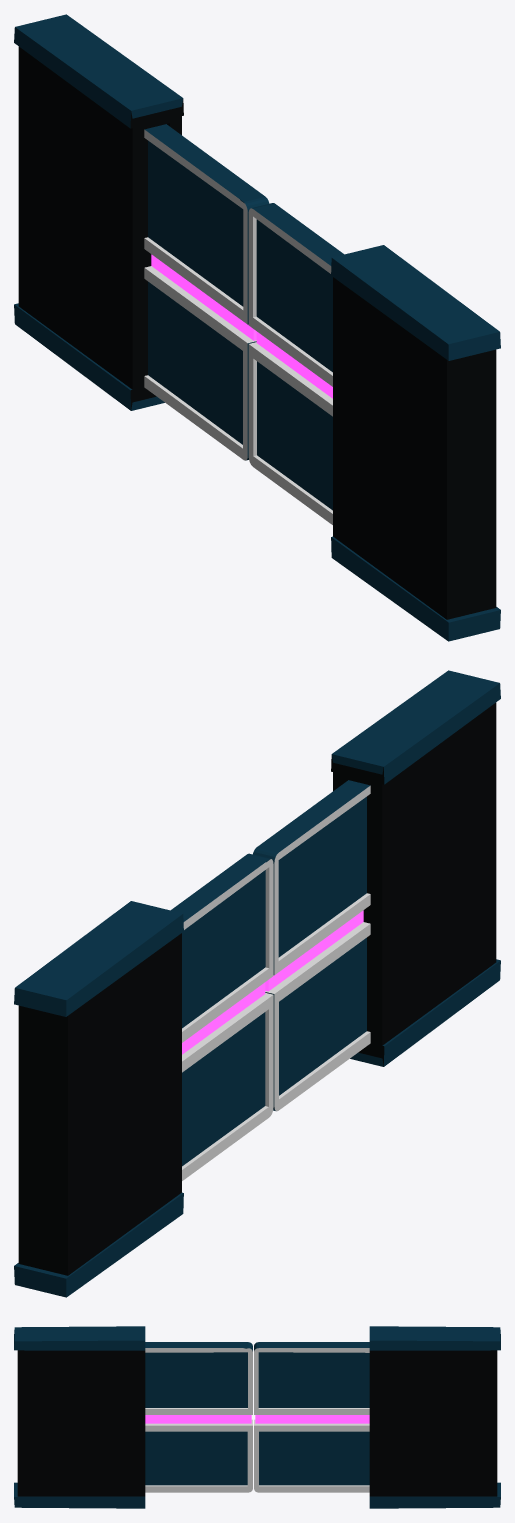
The model's file is Door.fbx.
3 renders of one model, top to bottom at view 1: azimuth 30°, elevation 25°; view 2: azimuth 150°, elevation 25°; view 3: azimuth 270°, elevation 25°, orthographic. The views are drawn at different scales.
Parts seen in each view (by area): view 1: Door--Lock, Door--Lock-R, Door-Right, Door-Left; view 2: Door--Lock-R, Door--Lock, Door-Left, Door-Right; view 3: Door--Lock, Door--Lock-R, Door-Right, Door-Left.
Boxes of the visible parts, box(x1,y1,x2,y2) form: Door--Lock: box(331, 245, 500, 641); Door--Lock-R: box(14, 14, 183, 410); Door-Right: box(144, 124, 269, 460); Door-Left: box(248, 203, 343, 524); Door--Lock-R: box(14, 901, 183, 1297); Door--Lock: box(331, 670, 500, 1066); Door-Left: box(253, 780, 370, 1111); Door-Right: box(171, 853, 273, 1180); Door--Lock: box(14, 1326, 145, 1508); Door--Lock-R: box(369, 1326, 500, 1508); Door-Right: box(254, 1342, 369, 1492); Door-Left: box(145, 1342, 252, 1492).
Bounding box in the file's own units: 54.11 × 291 × 764.
